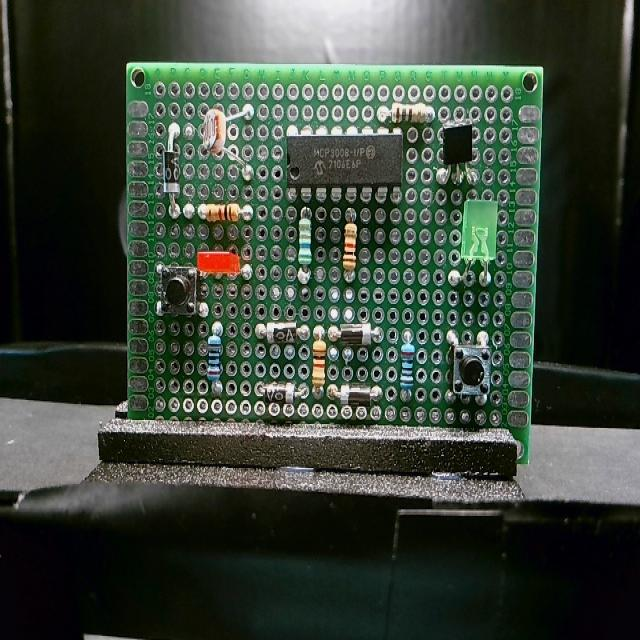IC: (285, 126, 403, 202)
cds: (201, 106, 240, 162)
diode: (162, 139, 182, 206), (261, 320, 306, 348), (262, 380, 301, 408), (335, 322, 375, 348), (336, 383, 376, 408)
led: (460, 195, 500, 271), (195, 250, 243, 280)
resistor: (388, 101, 435, 126), (202, 200, 247, 226), (398, 338, 416, 398), (341, 219, 359, 278), (295, 216, 313, 272), (311, 334, 327, 396), (207, 332, 223, 388)
switch: (449, 340, 494, 401), (161, 264, 201, 318)
transistor: (441, 116, 475, 174)
